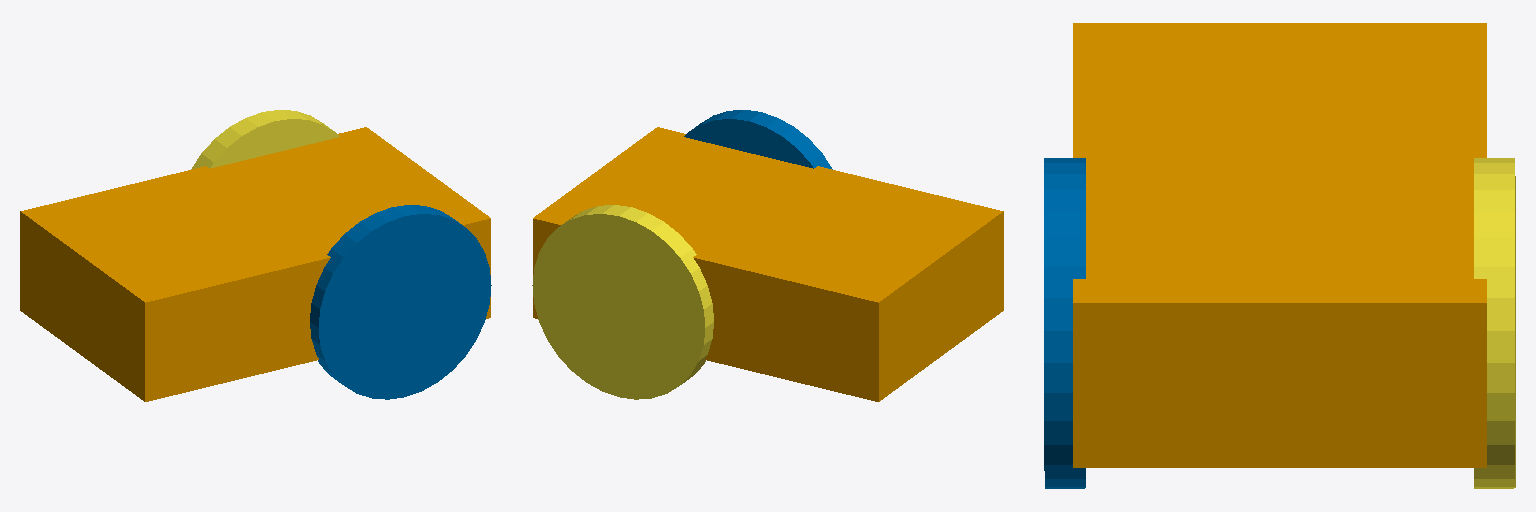
robot.urdf — spbot:
<?xml version="1.0" encoding="utf-8"?>
<!-- =================================================================================== -->
<!-- |    This document was autogenerated by xacro from spbot.urdf.xacro               | -->
<!-- |    EDITING THIS FILE BY HAND IS NOT RECOMMENDED                                 | -->
<!-- =================================================================================== -->
<robot name="spbot" xmlns:xacro="http://www.ros.org/wiki/xacro">
  <!--///////////////////////////////////////////////////////////////////////////////////////////////////////////////////////////////////////////////////////-->
  <link name="chassis">
    <!--pose> 0 0 0.2 0 0 0</pose-->
    <inertial>
      <mass value="8.0"/>
      <origin rpy="0 0 0" xyz="0.0 0 0.2"/>
      <inertia ixx="0.08" ixy="0" ixz="0" iyy="0.08" iyz="0" izz="0.08"/>
    </inertial>
    <collision name="collision">
      <geometry>
        <box size="0.8 .5 .22"/>
      </geometry>
    </collision>
    <visual name="visual">
      <origin rpy="0 0 0" xyz="0 0 0.1"/>
      <geometry>
        <box size="0.8 .5 .22"/>
      </geometry>
    </visual>
  </link>
  <!--left_free_wheel_link-->
  <link name="left_free_wheel">
    <collision name="collision">
      <origin rpy="0 0 0" xyz="0.9 0.1 -0.6"/>
      <geometry>
        <mesh filename="file://[local-path]/catkin_ws2/src/spbot/spbot_description/meshes/free_wheel.dae"/>
      </geometry>
    </collision>
    <visual name="visual">
      <origin rpy="0 0 0" xyz="0.9 0.1 -0.6"/>
      <geometry>
        <mesh filename="file://[local-path]/catkin_ws2/src/spbot/spbot_description/meshes/free_wheel.dae"/>
      </geometry>
    </visual>
    <inertial>
      <origin rpy="0 -0 0" xyz="0.9 0.1 -0.6"/>
      <mass value="0.8"/>
      <inertia ixx="0.04" ixy="0" ixz="0" iyy="0.04" iyz="0" izz="0.04"/>
    </inertial>
  </link>
  <!--right_free_wheel_link-->
  <link name="right_free_wheel">
    <collision name="collision">
      <origin rpy="0 0 0" xyz="0.9 -0.1 -0.6"/>
      <geometry>
        <mesh filename="file://[local-path]/catkin_ws2/src/spbot/spbot_description/meshes/free_wheel.dae"/>
      </geometry>
    </collision>
    <visual name="visual">
      <origin rpy="0 0 0" xyz="0.9 -0.1 -0.6"/>
      <geometry>
        <mesh filename="file://[local-path]/catkin_ws2/src/spbot/spbot_description/meshes/free_wheel.dae"/>
      </geometry>
    </visual>
    <inertial>
      <origin rpy="0 -0 0" xyz="0.9 -0.1 -0.6"/>
      <mass value="0.8"/>
      <inertia ixx="0.04" ixy="0" ixz="0" iyy="0.04" iyz="0" izz="0.04"/>
    </inertial>
  </link>
  <!--left_wheel-->
  <link name="left_wheel">
    <collision name="collision">
      <origin rpy="0 1.5707 1.5707" xyz="0 0 0"/>
      <geometry>
        <cylinder length="0.05" radius="0.2"/>
      </geometry>
    </collision>
    <visual name="left_wheel_visual">
      <origin rpy="0 1.5707 1.5707" xyz="0 0 0"/>
      <geometry>
        <cylinder length="0.05" radius="0.2"/>
      </geometry>
    </visual>
    <inertial>
      <origin rpy="0 1.5707 1.5707" xyz="0 0 0"/>
      <mass value="1.0"/>
      <inertia ixx=".1" ixy="0.0" ixz="0.0" iyy=".1" iyz="0.0" izz=".1"/>
    </inertial>
  </link>
  <!--right_wheel-->
  <link name="right_wheel">
    <collision name="collision">
      <origin rpy="0 1.5707 1.5707" xyz="0 0 0"/>
      <geometry>
        <cylinder length="0.05" radius="0.2"/>
      </geometry>
    </collision>
    <visual name="right_wheel_visual">
      <origin rpy="0 1.5707 1.5707" xyz="0 0 0"/>
      <geometry>
        <cylinder length="0.05" radius="0.2"/>
      </geometry>
    </visual>
    <inertial>
      <origin rpy="0 1.5707 1.5707" xyz="0 0 0"/>
      <mass value="1.0"/>
      <inertia ixx=".1" ixy="0.0" ixz="0.0" iyy=".1" iyz="0.0" izz=".1"/>
    </inertial>
  </link>
  <!--left_wheel_joint-->
  <joint name="wheel_left_joint" type="continuous">
    <origin rpy="0 0 0" xyz="0.18 0.26 0.08"/>
    <child link="left_wheel"/>
    <parent link="chassis"/>
    <axis rpy="0 0 0" xyz="0 1 0"/>
    <limit effort="10000" velocity="1000"/>
    <joint_properties damping="1.0" friction="1.0"/>
  </joint>
  <!--right_wheel_joint-->
  <joint name="wheel_right_joint" type="continuous">
    <origin rpy="0 0 0" xyz="0.18 -0.26 0.08"/>
    <child link="right_wheel"/>
    <parent link="chassis"/>
    <axis rpy="0 0 0" xyz="0 1 0"/>
    <limit effort="10000" velocity="1000"/>
    <joint_properties damping="1.0" friction="1.0"/>
  </joint>
  <!--left_free_wheel_hinge-->
  <joint name="left_free_wheel_hinge" type="fixed">
    <origin rpy="0 0 0" xyz="0.0 0.1 0.3"/>
    <child link="left_free_wheel"/>
    <parent link="chassis"/>
    <axis rpy="0 0 0" xyz="0 1 0"/>
    <limit effort="10000" velocity="1000"/>
    <joint_properties damping="1.0" friction="1.0"/>
  </joint>
  <!--right_free_wheel hinge-->
  <joint name="right_free_wheel_hinge" type="fixed">
    <origin rpy="0 0 0" xyz="0.0 -0.1 0.3"/>
    <child link="right_free_wheel"/>
    <parent link="chassis"/>
    <axis rpy="0 0 0" xyz="0 1 0"/>
    <limit effort="10000" velocity="1000"/>
    <joint_properties damping="1.0" friction="1.0"/>
  </joint>

<gazebo reference="chassis">
    <sensor name="contactsensor_sensor" type="contact">
      <always_on>true</always_on>
      <updateRate>15.0</updateRate>
      <contact>
        <collision>chassis_fixed_joint_lump__collision_collision</collision>
      </contact>
      <plugin filename="libgazebo_ros_bumper.so" name="gazebo_ros_bumper_controller">
        <bumperTopicName>chassis_contact_info</bumperTopicName>
        <frameName>chassis</frameName>
      </plugin>
    </sensor>
  </gazebo>

  <!--gazebo-ros plugin differential drive-->
  <gazebo>
    <plugin filename="libgazebo_ros_control.so" name="gazebo_ros_control">
      <robotNamespace>/spbot</robotNamespace>
    </plugin>
    <plugin filename="libgazebo_ros_diff_drive.so" name="differential_drive_controller">
      <robotSimType>gazebo_ros_control/DefaultRobotHWSim</robotSimType>
      <alwaysOn>true</alwaysOn>
      <updateRate>20</updateRate>
      <leftJoint>wheel_left_joint</leftJoint>
      <rightJoint>wheel_right_joint</rightJoint>
      <wheelSeparation>0.5380</wheelSeparation>
      <wheelDiameter>0.2410</wheelDiameter>
      <torque>20</torque>
      <commandTopic>cmd_vel</commandTopic>
      <odometryTopic>odom</odometryTopic>
      <odometryFrame>odom</odometryFrame>
      <odometrySource>world</odometrySource>
      <publishTf>1</publishTf>
      <robotBaseFrame>chassis</robotBaseFrame>
      <publishWheelTF>true</publishWheelTF>
      <publishOdomTF>true</publishOdomTF>
      <publishWheelJointState>true</publishWheelJointState>
      <wheelAcceleration>0</wheelAcceleration>
      <wheelTorque>5</wheelTorque>
      <rosDebugLevel>na</rosDebugLevel>
    </plugin>
  </gazebo>
</robot>

--- What the picture shows (computed from the rendered views, not written in the file) ---
The picture shows the robot from 3 angles, left to right: view 1: azimuth 30°, elevation 25°; view 2: azimuth 150°, elevation 25°; view 3: azimuth 270°, elevation 25°; orthographic projection.
Model spbot with 5 links and 4 joints (2 continuous, 2 fixed), rooted at chassis, posed every joint at zero.
Links seen in each view (by area): view 1: chassis, right_wheel, left_wheel; view 2: chassis, left_wheel, right_wheel; view 3: chassis, right_wheel, left_wheel.
Link boxes in pixels (x1,y1,x2,y2): chassis: (20, 127, 490, 401); right_wheel: (310, 205, 491, 399); left_wheel: (191, 110, 339, 169); chassis: (533, 127, 1003, 401); left_wheel: (532, 205, 713, 399); right_wheel: (684, 110, 832, 169); chassis: (1073, 23, 1486, 467); right_wheel: (1044, 158, 1085, 488); left_wheel: (1474, 158, 1515, 488).
Bounding box of the posed robot: 0.8 × 0.5701 × 0.4 m (x, y, z).
Geometry: only primitive shapes (box / cylinder / sphere) drawn; not drawn: 2 mesh visuals (reference in a form the renderer does not follow).